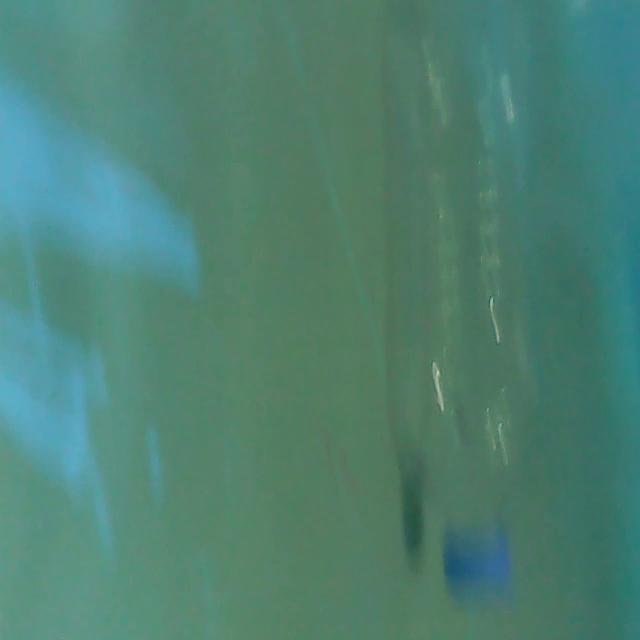plastic bottle: (363, 0, 554, 600)
